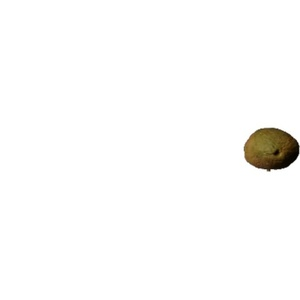mamão: (243, 119, 293, 176)
